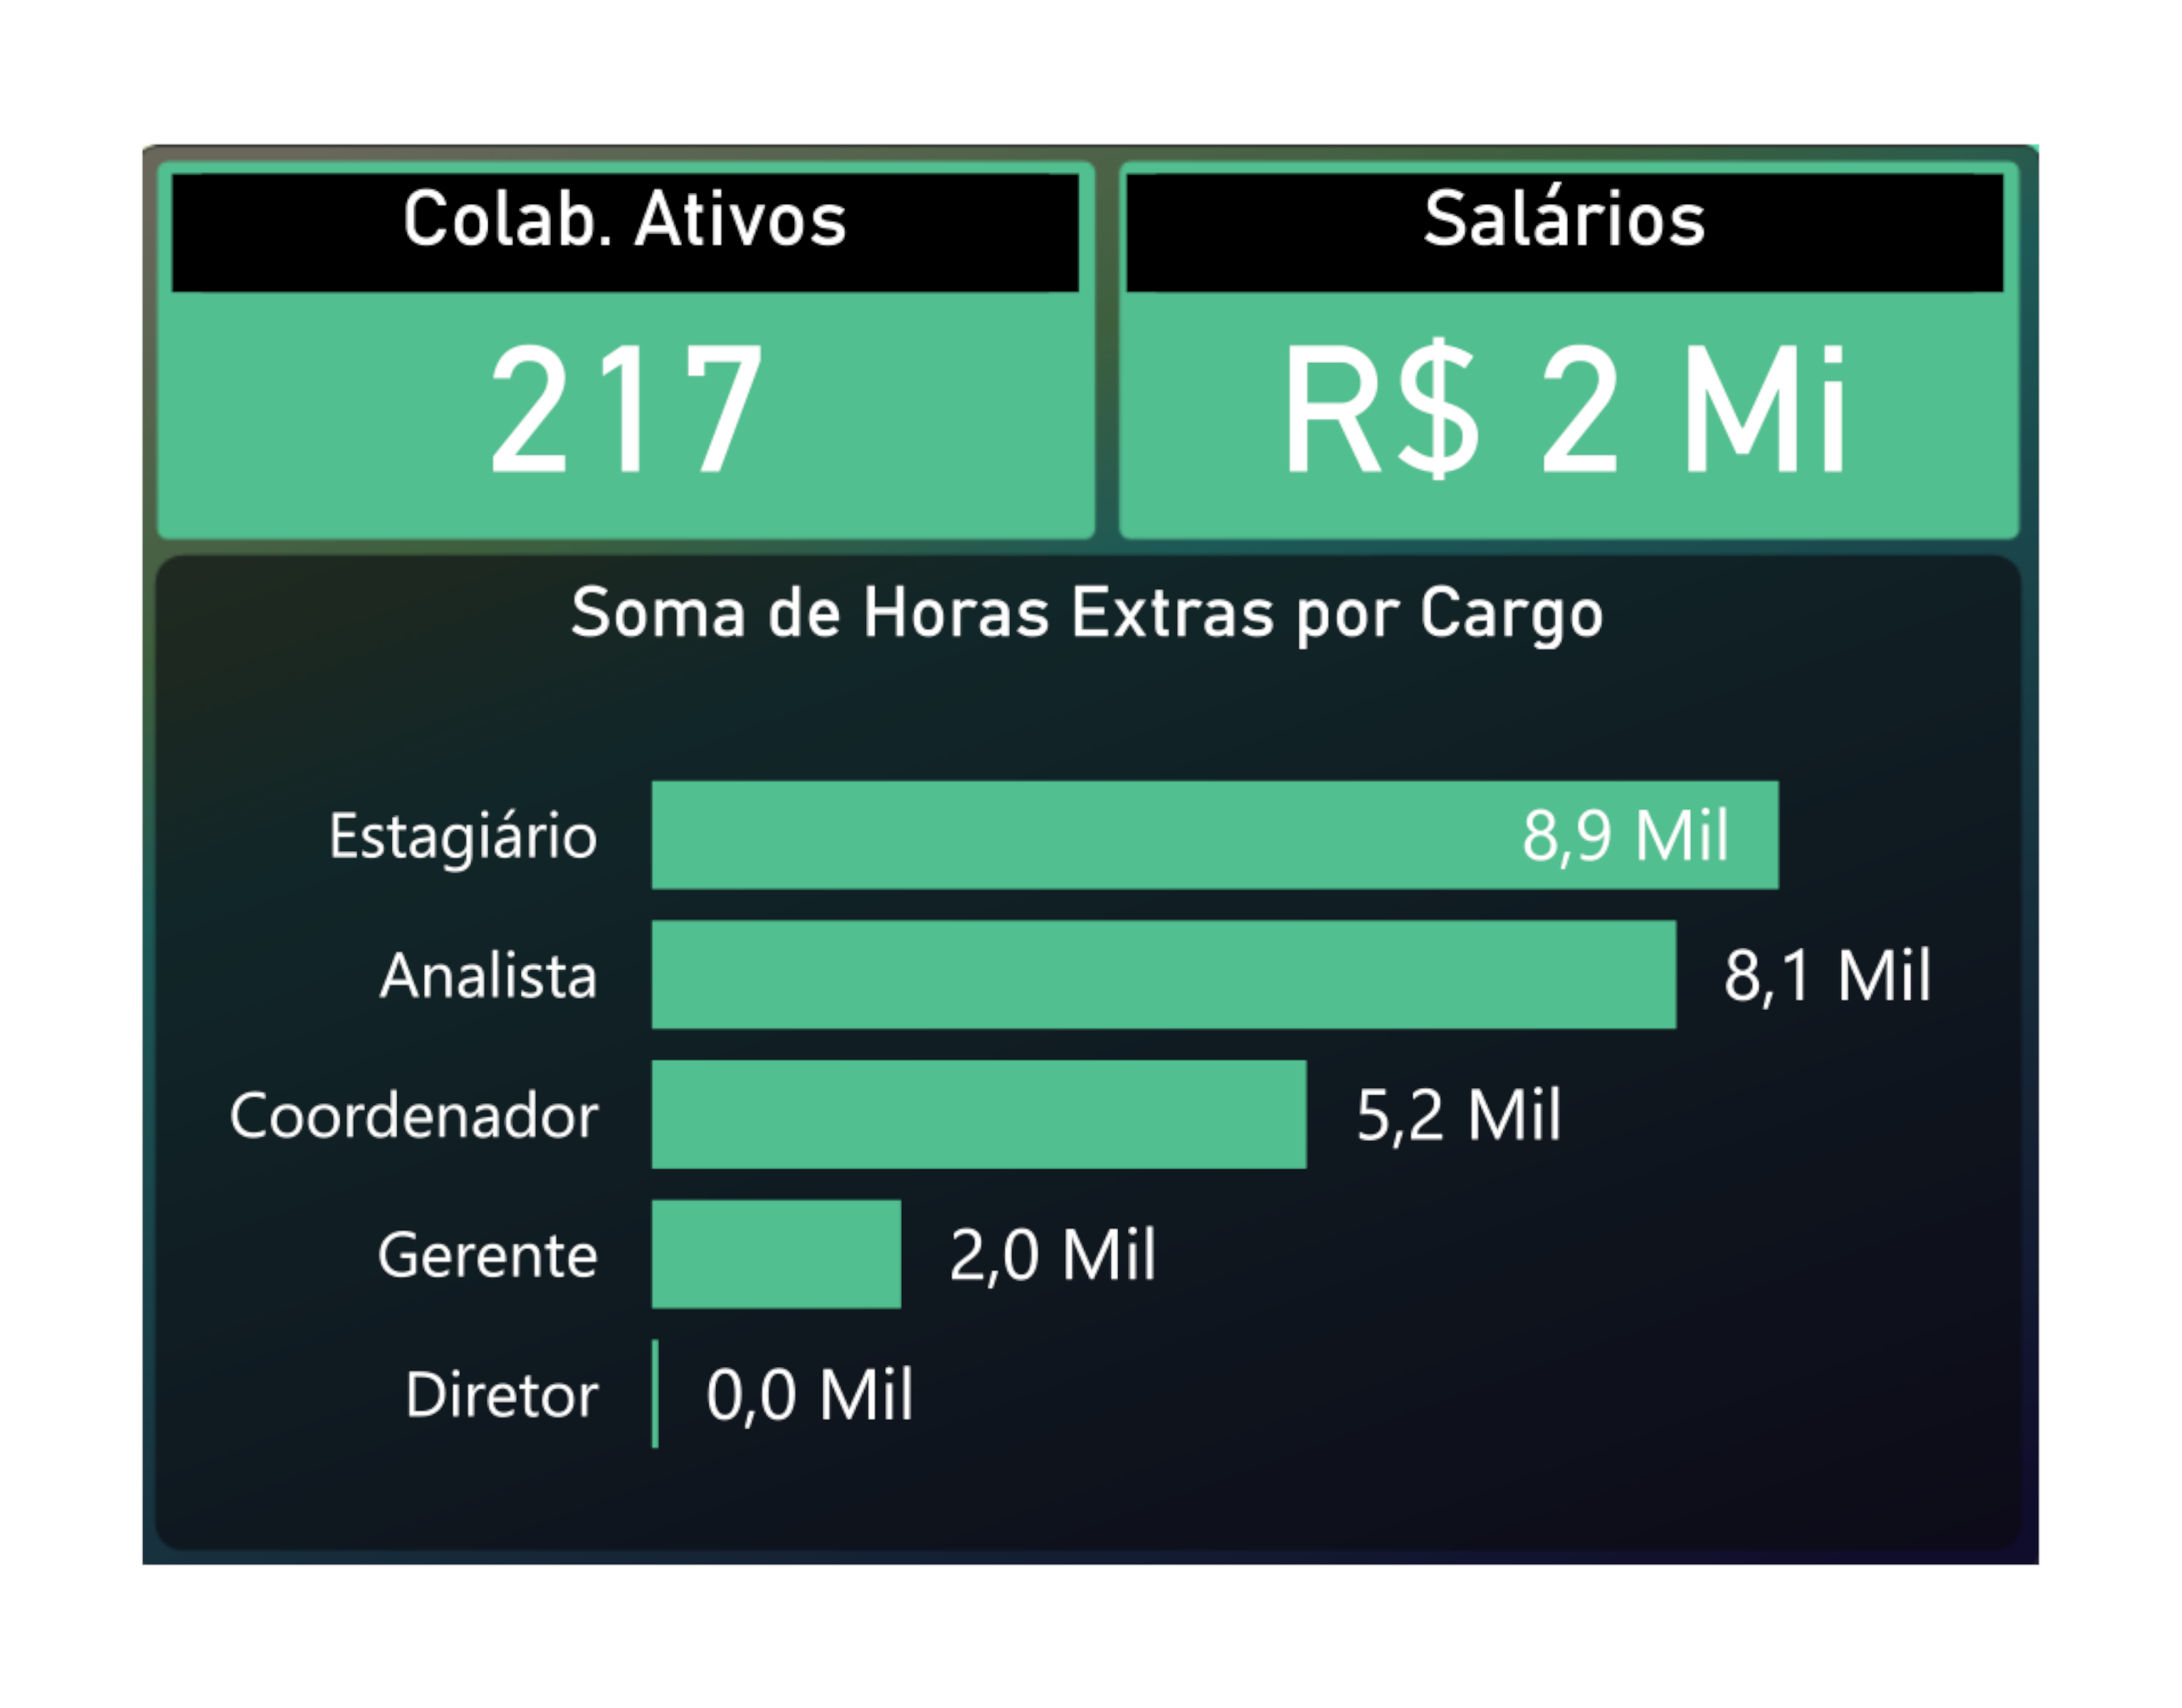

The page's visual inventory and layout, read from the dashboard file:
{"tool":"powerbi","page":{"name":"Tooltip","canvas":[320,240],"ordinal":1},"visuals":[{"type":"card","title":"Colab. Ativos","fields":{"Values":["BaseFuncionarios.Colab. Ativos"]},"box":[4.9,4.9,153.1,60],"z":0},{"type":"card","title":"Salários","fields":{"Values":["Sum(BaseFuncionarios.Salario)"]},"box":[166.1,4.8,147.8,60],"z":1000},{"type":"barChart","fields":{"Y":["Sum(BaseFuncionarios.Horas Extras)"],"Category":["BaseFuncionarios.Cargo"]},"box":[5,72.1,309.3,162.9],"z":2000}]}

Visuals, with their boxes on the page's 320x240 design canvas (x1, y1, x2, y2). These are canvas units, not pixel positions in the 2182x1708 screenshot, which may show the page scaled, cropped or inside an application window:
"Colab. Ativos" card: BBox(5, 5, 158, 65)
"Salários" card: BBox(166, 5, 314, 65)
barChart - Sum(BaseFuncionarios.Horas Extras) x BaseFuncionarios.Cargo: BBox(5, 72, 314, 235)
